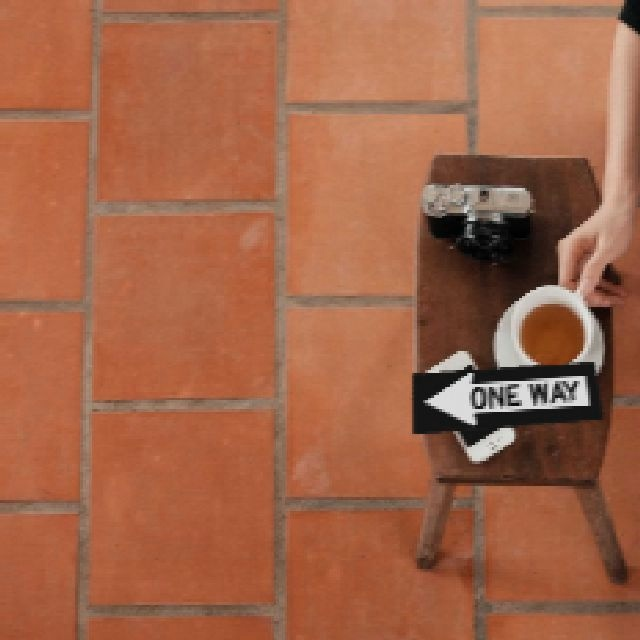ONE_WAY_ left: (409, 359, 601, 432)
